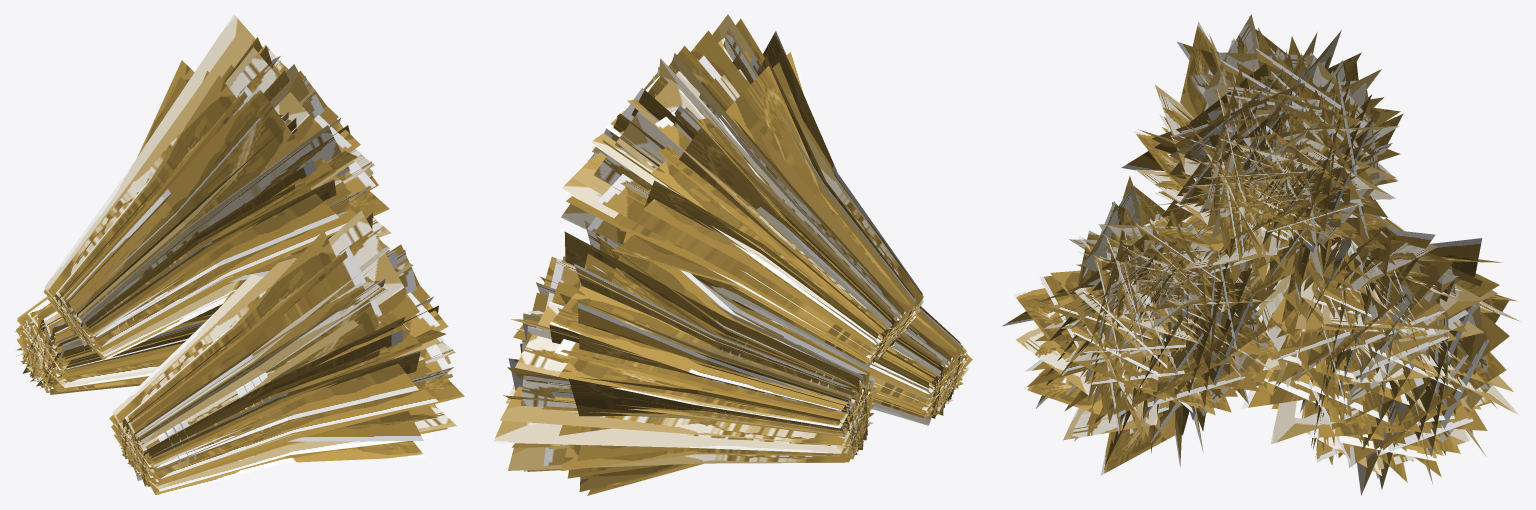
Rendered from MS_WindmillWheat3.fbx.
3 renders of one model, left to right at view 1: azimuth 30°, elevation 25°; view 2: azimuth 150°, elevation 25°; view 3: azimuth 270°, elevation 25°, orthographic. The views are drawn at different scales.
Visible parts, largest first — view 1: Plane.002; view 2: Plane.002; view 3: Plane.002.
Boxes of the visible parts, x1,y1,x2,y2 form: Plane.002: (14, 14, 464, 495); Plane.002: (493, 14, 972, 495); Plane.002: (1002, 14, 1520, 495).
Size of the model in its own units: 816 by 953 by 1064.
